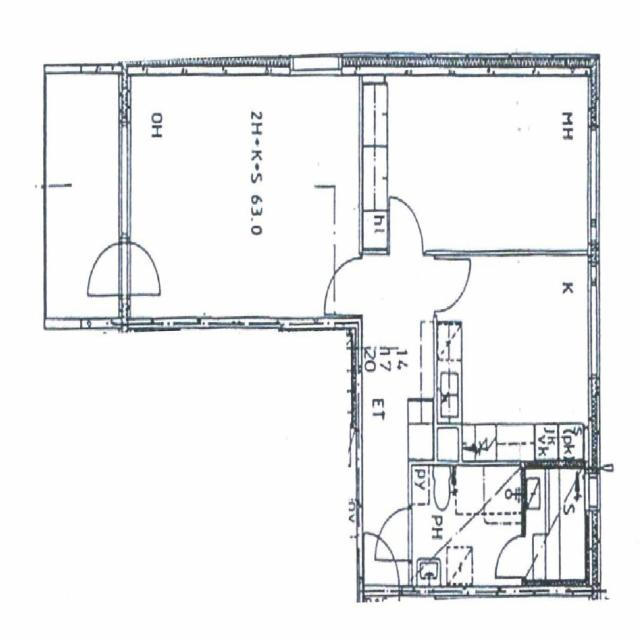door: (85, 243, 130, 295), (119, 243, 164, 295), (322, 259, 362, 314), (364, 533, 398, 597), (389, 196, 424, 256), (375, 509, 412, 560), (433, 259, 470, 310), (364, 585, 398, 640), (494, 536, 526, 578)
